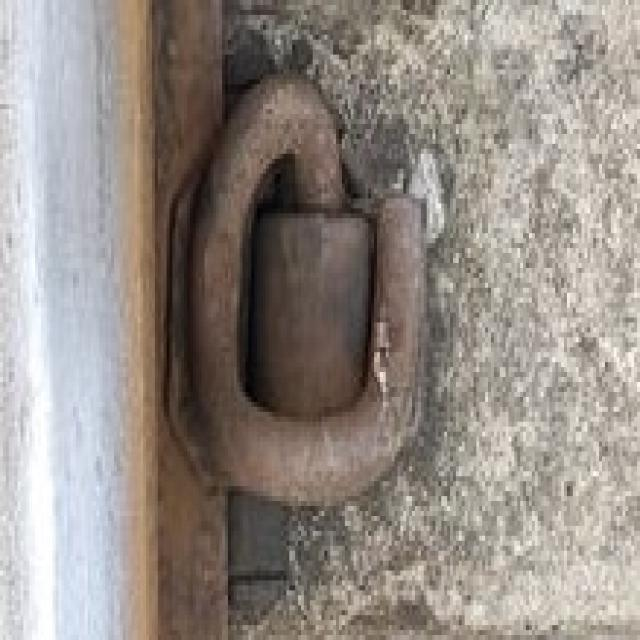track_bolt: (182, 66, 432, 517)
